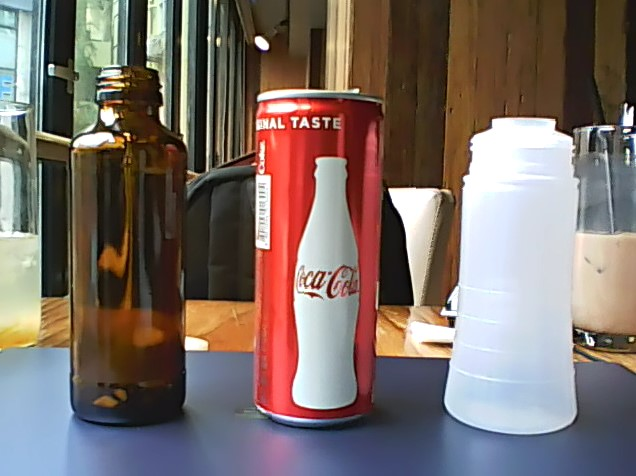Can: (247, 81, 390, 436)
Glass: (64, 61, 193, 430)
Plastic: (438, 107, 586, 439)
